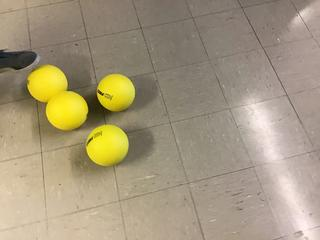power_cell: (81, 123, 132, 168), (24, 62, 70, 105), (95, 72, 138, 114), (44, 90, 90, 128)
